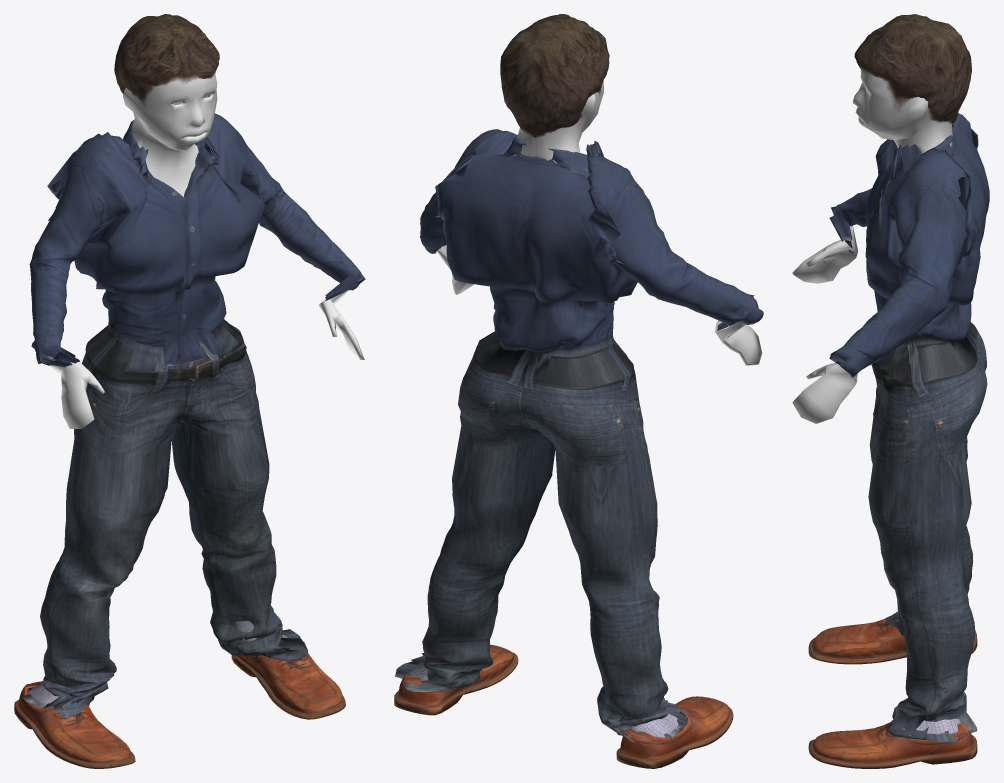
Rendered from ashkin.glb.
3 renders of one model, left to right at view 1: azimuth 30°, elevation 25°; view 2: azimuth 150°, elevation 25°; view 3: azimuth 270°, elevation 25°, orthographic. The views are drawn at different scales.
Parts seen in each view (by area): view 1: body; view 2: body; view 3: body.
Boxes of the visible parts, x1,y1,x2,y2 form: body: (14, 14, 365, 768); body: (394, 14, 763, 768); body: (792, 14, 989, 768).
Bounding box in the file's own units: 0.8699 × 1.75 × 0.4584.
4 materials, 3 textured.
